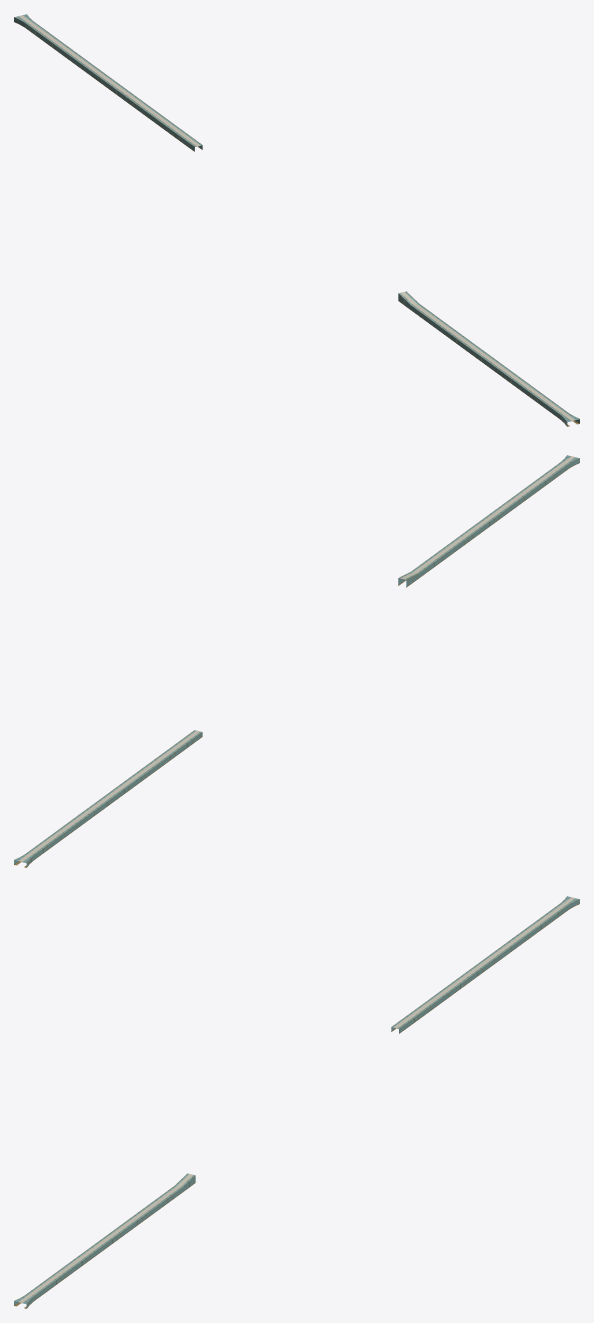
Rendered from G7_TerminalRoofLinks_r011.glb.
3 renders of one model, top to bottom at view 1: azimuth 30°, elevation 25°; view 2: azimuth 150°, elevation 25°; view 3: azimuth 330°, elevation 25°, orthographic.
Size of the model in its own units: 13.6 by 7.86 by 1019.
4 materials, 2 textured.
